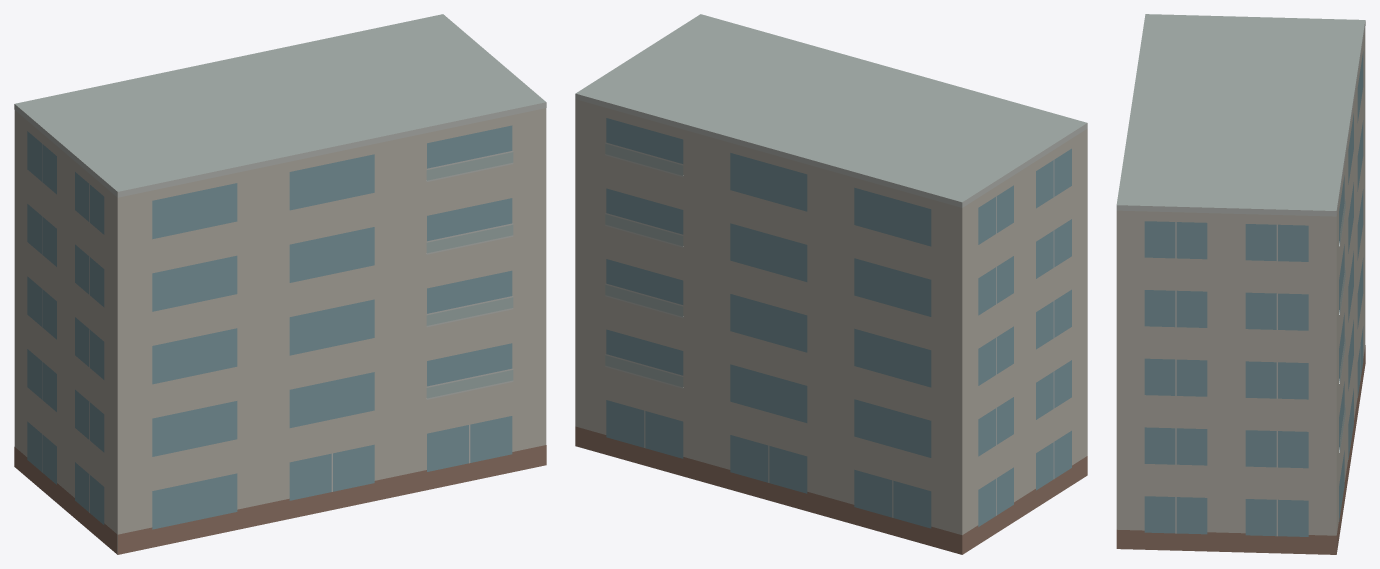
The model's file is survey-upis-32542070.glb.
The picture shows the model from 3 angles, left to right: view 1: azimuth 30°, elevation 25°; view 2: azimuth 150°, elevation 25°; view 3: azimuth 270°, elevation 25°; orthographic projection. The views are drawn at different scales.
Parts seen in each view (by area): view 1: survey-upis-32542070.tmp; view 2: survey-upis-32542070.tmp; view 3: survey-upis-32542070.tmp.
Part boxes in pixels (x1,y1,x2,y2): survey-upis-32542070.tmp: (14, 14, 546, 554); survey-upis-32542070.tmp: (575, 14, 1087, 554); survey-upis-32542070.tmp: (1116, 14, 1365, 554).
Size of the model in its own units: 18.76 by 15.25 by 10.02.
